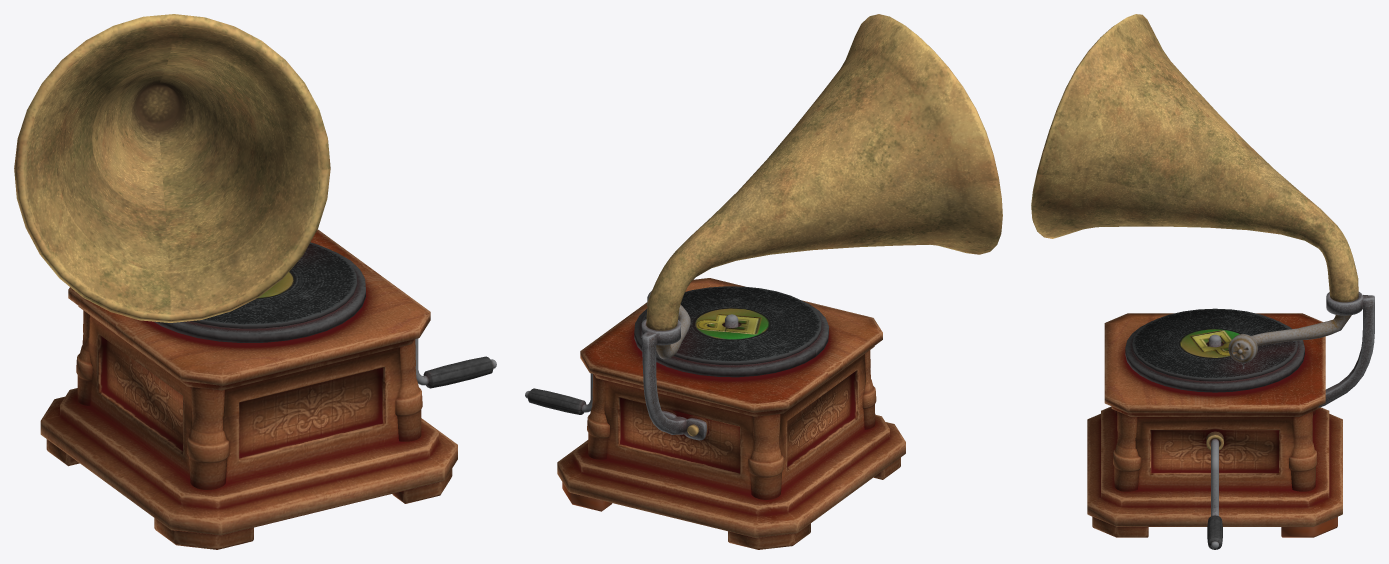
Rendered from gramophone.fbx.
The picture shows the model from 3 angles, left to right: view 1: azimuth 30°, elevation 25°; view 2: azimuth 150°, elevation 25°; view 3: azimuth 270°, elevation 25°; orthographic projection. The views are drawn at different scales.
Visible parts, largest first — view 1: gramophone1_01; view 2: gramophone1_01; view 3: gramophone1_01.
Part boxes in pixels (x1=…): gramophone1_01: x1=14, y1=14, x2=496, y2=549; gramophone1_01: x1=525, y1=14, x2=1002, y2=549; gramophone1_01: x1=1031, y1=14, x2=1374, y2=549.
Bounding box in the file's own units: 124 × 120 × 91.34.
